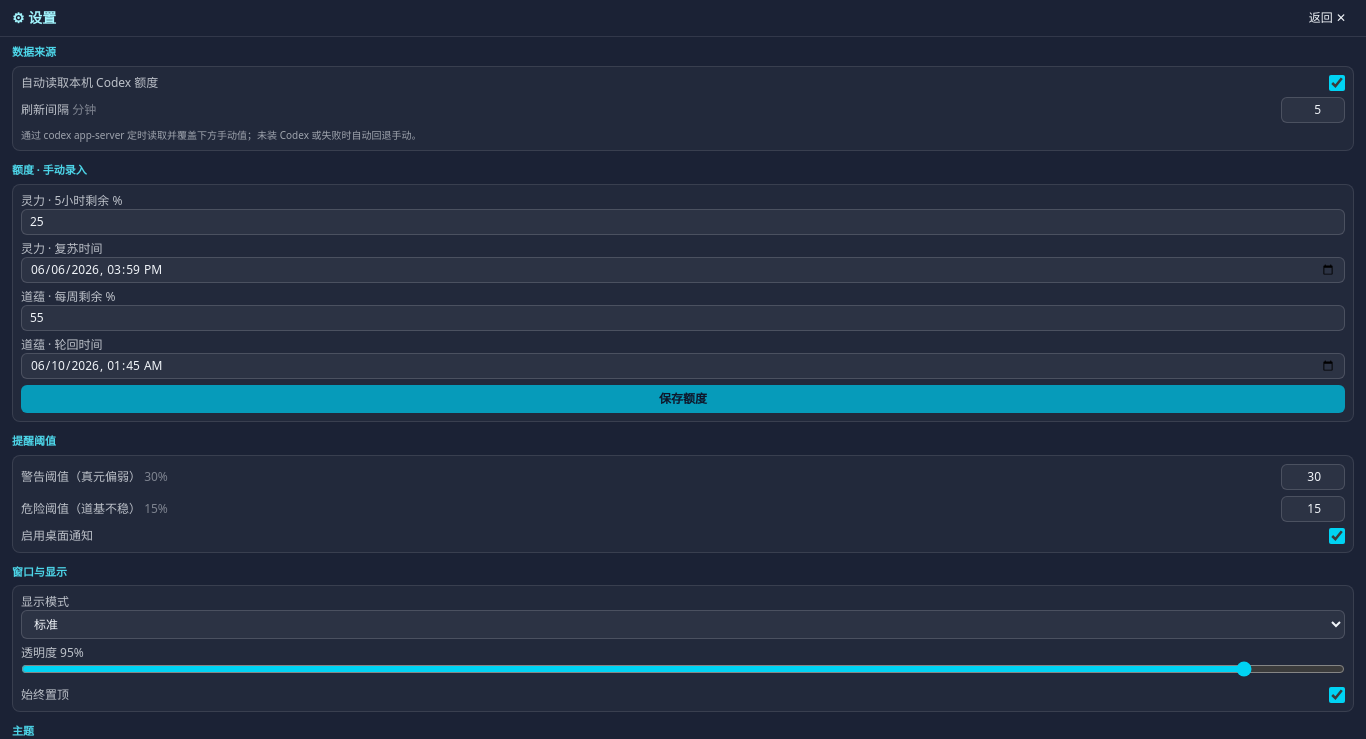
Scenario: SettingsPanel › toggles auto-read and reveals/hides the interval field
expect the heading "数据来源" is shown: met, box [12,44,56,59]
expect the text "刷新间隔" is shown: met, box [21,101,69,118]
Click the checkbox labelled "自动读取本机 Codex 额度".
click(1337, 83)  # box [1329,75,1345,91]
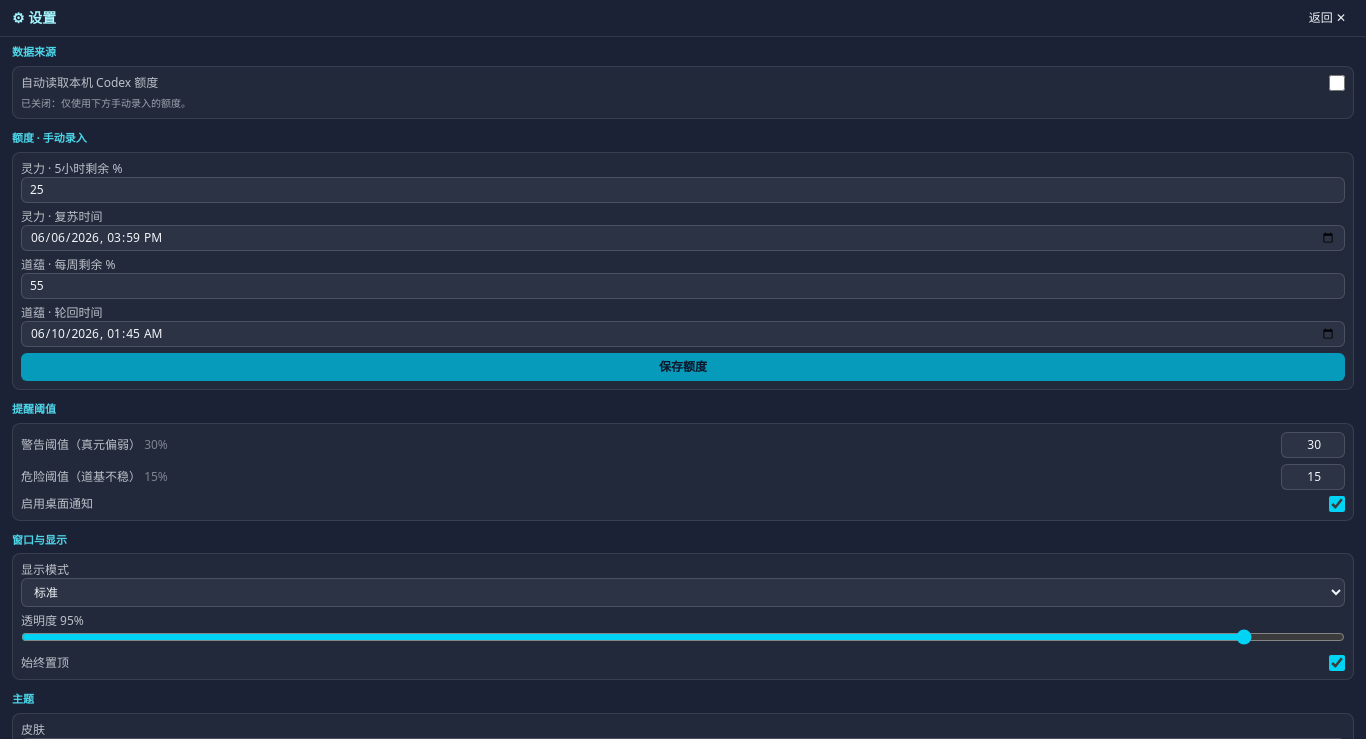
expect the text "刷新间隔" is gone: met
